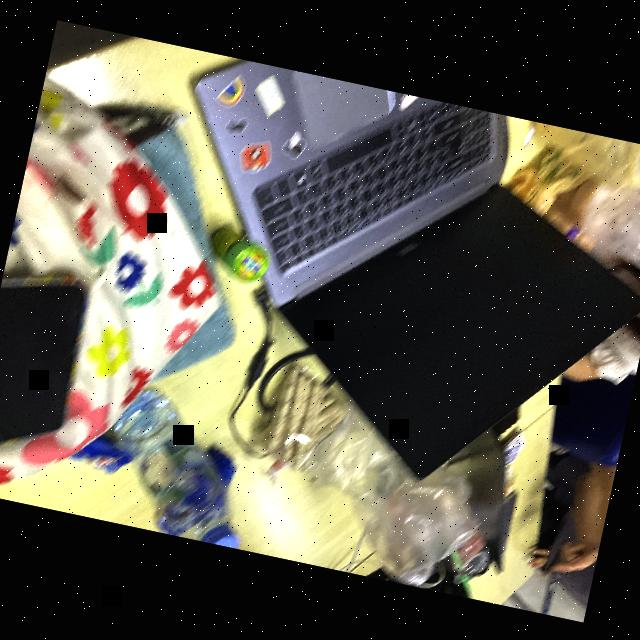plastic_bag: (295, 396, 499, 596), (496, 135, 598, 254), (528, 121, 640, 189)
plastic_bottle: (97, 378, 270, 548)
plastic_bottle_cap: (198, 516, 245, 548)
plastic_cup: (539, 163, 640, 275)
snack_bag: (254, 355, 365, 501), (61, 417, 147, 485)
